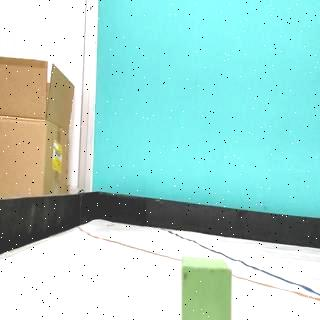greenbox: (180, 253, 233, 320)
